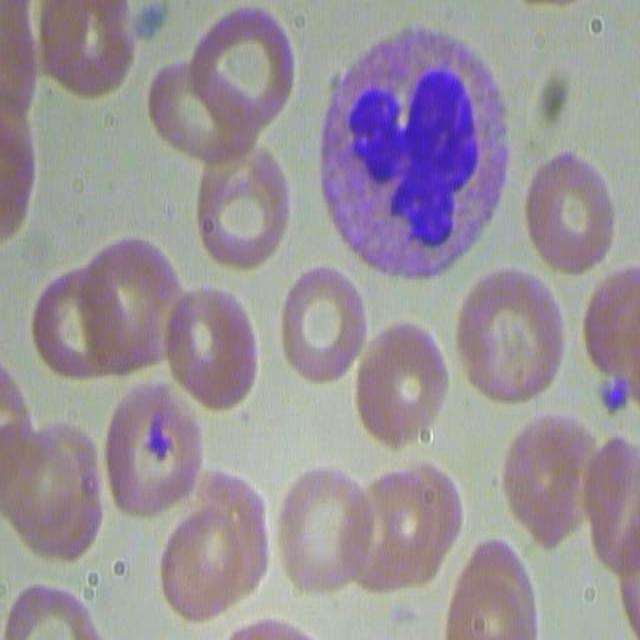RBC: (34, 232, 178, 384), (162, 458, 274, 624), (454, 266, 567, 411), (344, 456, 459, 595), (2, 408, 103, 564), (97, 376, 204, 520), (185, 0, 298, 135), (273, 462, 374, 601), (159, 280, 260, 419), (192, 140, 290, 280), (271, 255, 366, 392), (348, 317, 448, 444), (505, 410, 593, 552), (525, 147, 619, 279), (151, 65, 254, 174), (24, 0, 139, 94), (441, 538, 541, 640), (575, 434, 640, 568), (584, 263, 640, 395), (0, 4, 31, 239), (5, 576, 106, 638)
WBC: (322, 12, 511, 285), (143, 411, 185, 470)
platelets: (130, 0, 166, 43)
